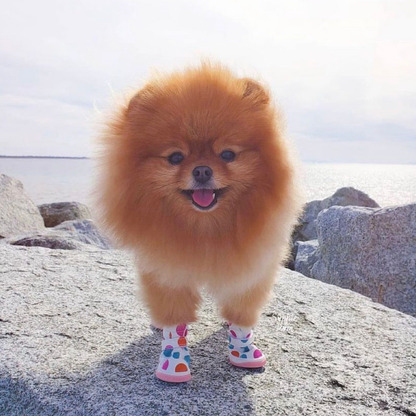Pomeranian: (87, 70, 320, 387)
